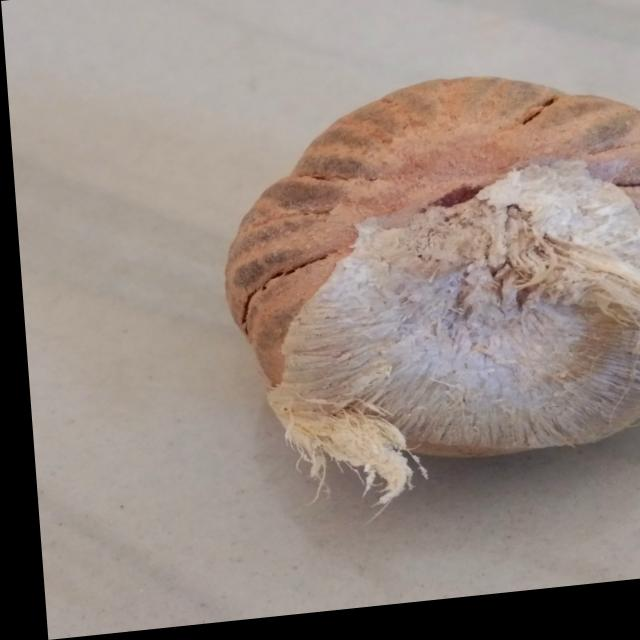phatora: (193, 58, 640, 519)
